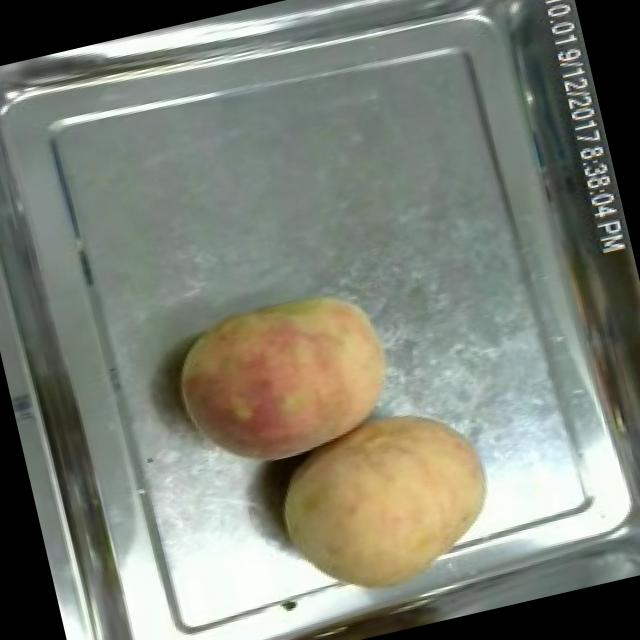Fruit: (258, 389, 516, 622), (154, 268, 412, 484)
